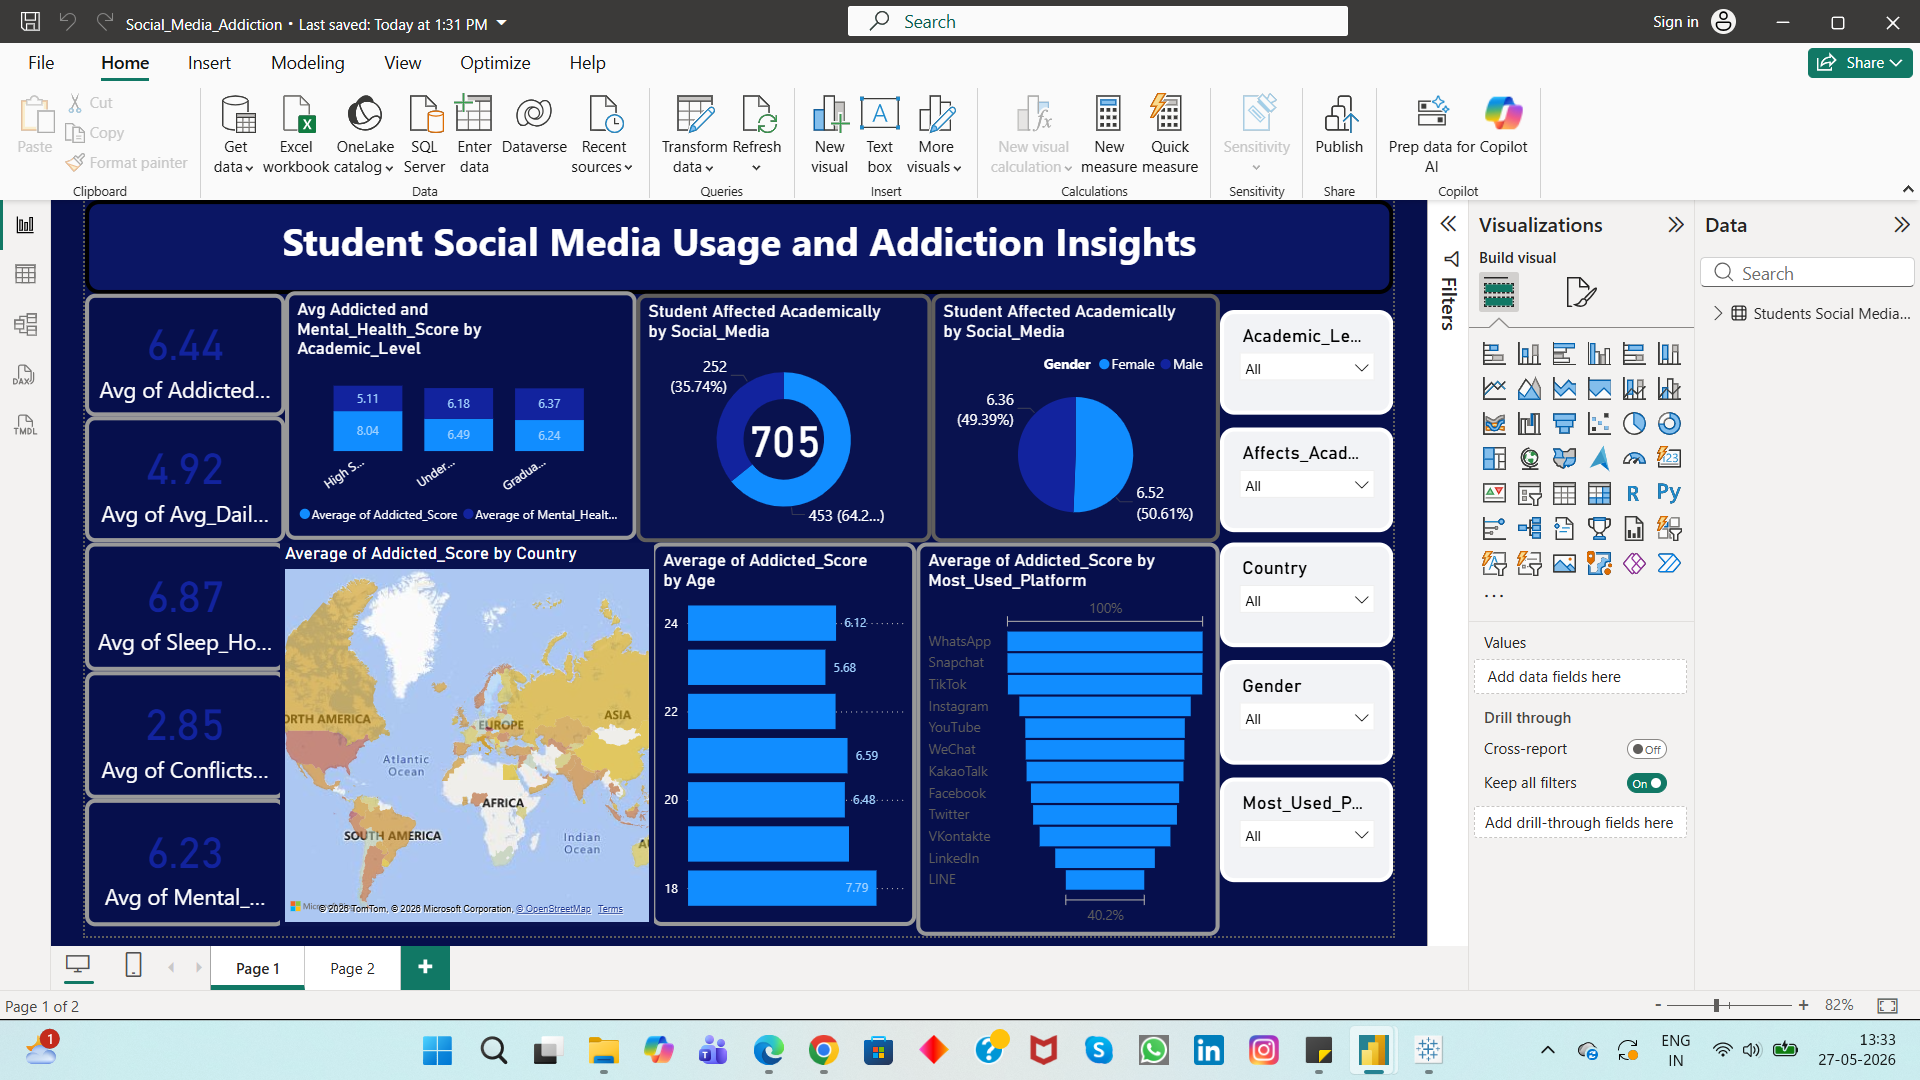

Layout of this report page (visuals, bound fields, positions):
{"tool":"powerbi","page":{"name":"Page 1","canvas":[1280,720],"ordinal":0},"visuals":[{"type":"textbox","box":[0,0,1280.3,91.7],"z":0},{"type":"card","fields":{"Values":["Avg(Students Social Media Addiction.Addicted_Score)"]},"box":[0,91.7,195.7,119.8],"z":1000},{"type":"card","fields":{"Values":["Avg(Students Social Media Addiction.Sleep_Hours_Per_Night)"]},"box":[0,335.1,195.7,126],"z":2000},{"type":"card","fields":{"Values":["Avg(Students Social Media Addiction.Avg_Daily_Usage_Hours)"]},"box":[0,211.6,195.7,123.5],"z":3000},{"type":"card","fields":{"Values":["Avg(Students Social Media Addiction.Conflicts_Over_Social_Media)"]},"box":[0,461,195.7,124.7],"z":4000},{"type":"card","fields":{"Values":["Avg(Students Social Media Addiction.Mental_Health_Score)"]},"box":[0,585.7,195.7,124.7],"z":5000},{"type":"columnChart","title":"Avg Addicted and Mental_Health_Score by Academic_Level","fields":{"Category":["Students Social Media Addiction.Academic_Level"],"Y":["Avg(Students Social Media Addiction.Addicted_Score)","Avg(Students Social Media Addiction.Mental_Health_Score)"]},"box":[195.7,89.3,343.6,243.3],"z":6000},{"type":"donutChart","title":"Student Affected Academically by Social_Media","fields":{"Category":["Students Social Media Addiction.Affects_Academic_Performance"],"Y":["CountNonNull(Students Social Media Addiction.Student_ID)"]},"box":[539.3,91.7,288.6,243.3],"z":7000},{"type":"card","fields":{"Values":["CountNonNull(Students Social Media Addiction.Sleep_Hours_Per_Night)"]},"box":[640.8,190.8,88,83.2],"z":8000},{"type":"clusteredBarChart","fields":{"Y":["Avg(Students Social Media Addiction.Addicted_Score)"],"Category":["Students Social Media Addiction.Age"]},"box":[553.9,335.1,259.2,375.4],"z":9000},{"type":"filledMap","fields":{"Category":["Students Social Media Addiction.Country"]},"box":[190.8,335.1,365.6,375.4],"z":10000},{"type":"slicer","fields":{"Values":["Students Social Media Addiction.Academic_Level"]},"box":[1110.3,107.6,170,102.7],"z":11000},{"type":"slicer","fields":{"Values":["Students Social Media Addiction.Affects_Academic_Performance"]},"box":[1110.3,222.6,170,102.7],"z":12000},{"type":"slicer","fields":{"Values":["Students Social Media Addiction.Country"]},"box":[1110.3,335.1,170,102.7],"z":13000},{"type":"slicer","fields":{"Values":["Students Social Media Addiction.Gender"]},"box":[1110.3,450,170,102.7],"z":14000},{"type":"slicer","fields":{"Values":["Students Social Media Addiction.Most_Used_Platform"]},"box":[1110.3,564.9,170,102.7],"z":15000},{"type":"pieChart","title":"Student Affected Academically by Social_Media","fields":{"Category":["Students Social Media Addiction.Gender"],"Y":["Avg(Students Social Media Addiction.Addicted_Score)"]},"box":[827.9,91.7,282.5,243.3],"z":16000},{"type":"funnel","fields":{"Category":["Students Social Media Addiction.Most_Used_Platform"],"Y":["Avg(Students Social Media Addiction.Addicted_Score)"]},"box":[813.2,335.1,297.1,385.2],"z":17000}]}

Visuals, with their boxes on the page's 1280x720 design canvas (x1, y1, x2, y2). These are canvas units, not pixel positions in the 1920x1080 screenshot, which may show the page scaled, cropped or inside an application window:
textbox: locate(0, 0, 1280, 92)
card - Avg(Students Social Media Addiction.Addicted_Score): locate(0, 92, 196, 212)
card - Avg(Students Social Media Addiction.Sleep_Hours_Per_Night): locate(0, 335, 196, 461)
card - Avg(Students Social Media Addiction.Avg_Daily_Usage_Hours): locate(0, 212, 196, 335)
card - Avg(Students Social Media Addiction.Conflicts_Over_Social_Media): locate(0, 461, 196, 586)
card - Avg(Students Social Media Addiction.Mental_Health_Score): locate(0, 586, 196, 710)
"Avg Addicted and Mental_Health_Score by Academic_Level" columnChart: locate(196, 89, 539, 333)
"Student Affected Academically by Social_Media" donutChart: locate(539, 92, 828, 335)
card - CountNonNull(Students Social Media Addiction.Sleep_Hours_Per_Night): locate(641, 191, 729, 274)
clusteredBarChart - Avg(Students Social Media Addiction.Addicted_Score) x Students Social Media Addiction.Age: locate(554, 335, 813, 710)
filledMap - Students Social Media Addiction.Country: locate(191, 335, 556, 710)
slicer - Students Social Media Addiction.Academic_Level: locate(1110, 108, 1280, 210)
slicer - Students Social Media Addiction.Affects_Academic_Performance: locate(1110, 223, 1280, 325)
slicer - Students Social Media Addiction.Country: locate(1110, 335, 1280, 438)
slicer - Students Social Media Addiction.Gender: locate(1110, 450, 1280, 553)
slicer - Students Social Media Addiction.Most_Used_Platform: locate(1110, 565, 1280, 668)
"Student Affected Academically by Social_Media" pieChart: locate(828, 92, 1110, 335)
funnel - Students Social Media Addiction.Most_Used_Platform x Avg(Students Social Media Addiction.Addicted_Score): locate(813, 335, 1110, 720)
